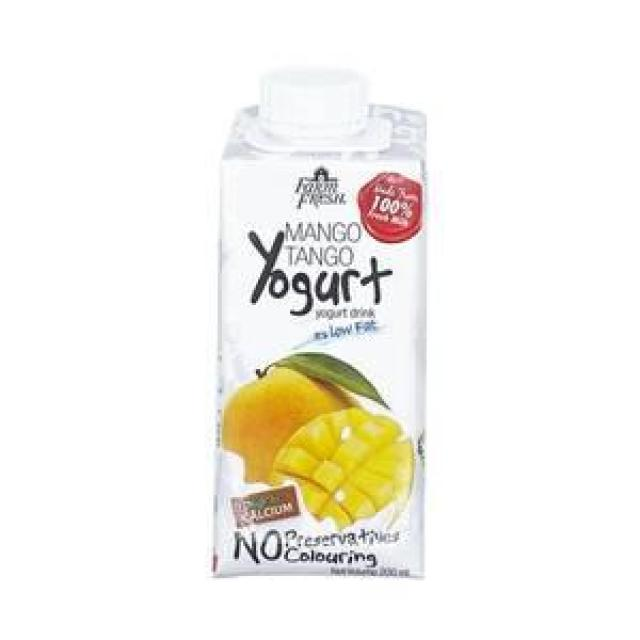drink carton: (222, 100, 427, 580)
plastic bottle cap: (265, 60, 375, 140)
